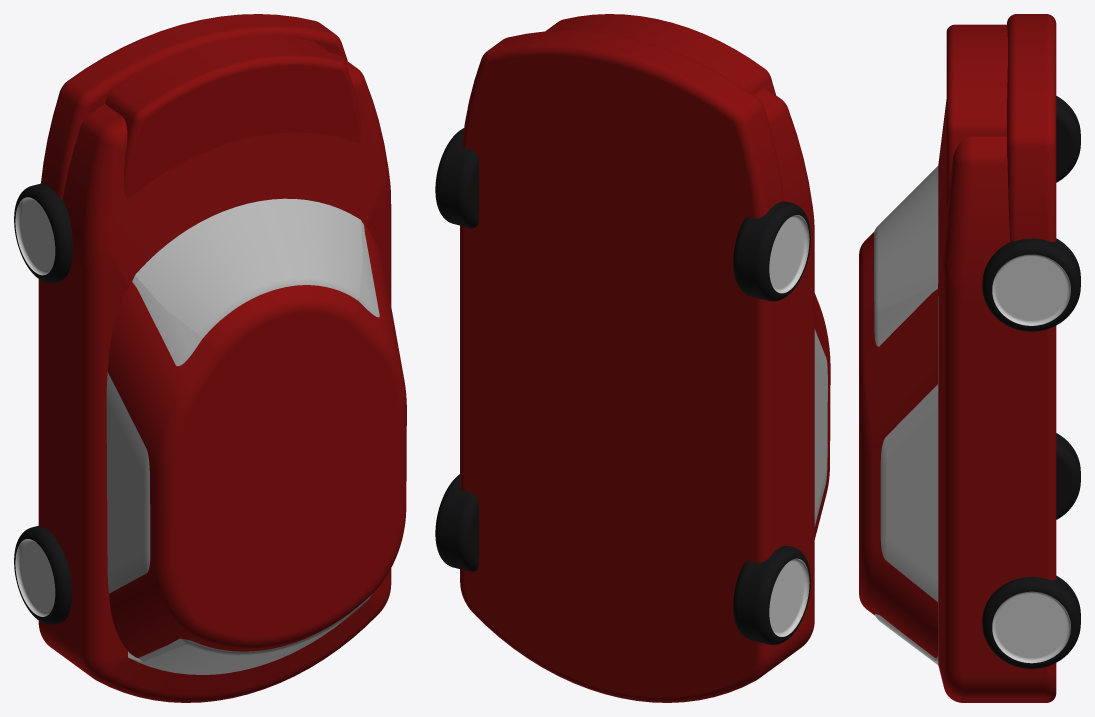
File: Carro.obj
3 renders of one model, left to right at view 1: azimuth 30°, elevation 25°; view 2: azimuth 150°, elevation 25°; view 3: azimuth 270°, elevation 25°, orthographic.
Parts seen in each view (by area): view 1: Coche; view 2: Coche; view 3: Coche.
Part boxes in pixels (bbox=[...]): Coche: bbox=[14, 14, 406, 702]; Coche: bbox=[435, 14, 830, 702]; Coche: bbox=[859, 14, 1080, 702].
Bounding box in the file's own units: 0.1912 × 0.3543 × 0.1125.
